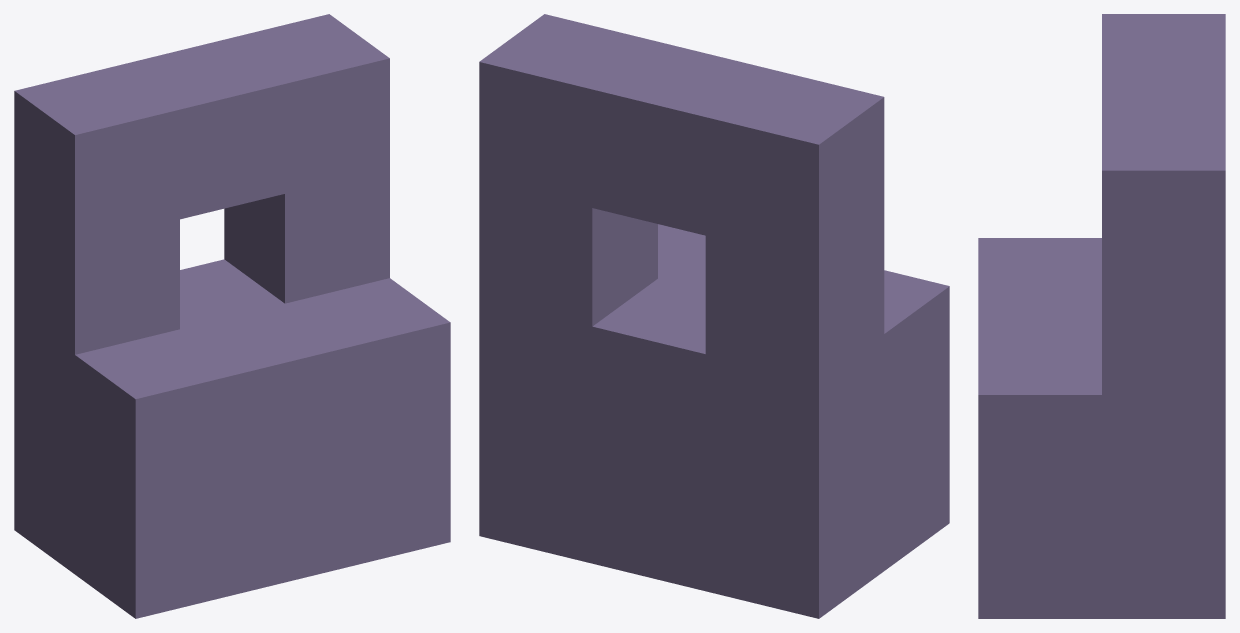
File: treasure_chest_c_lock.obj
3 views of the same model, side by side, from view 1: azimuth 30°, elevation 25°; view 2: azimuth 150°, elevation 25°; view 3: azimuth 270°, elevation 25° (orthographic). The views are drawn at different scales.
Size of the model in its own units: 0.3 by 0.4 by 0.2.
Materials: 1 (1 with a texture image).
